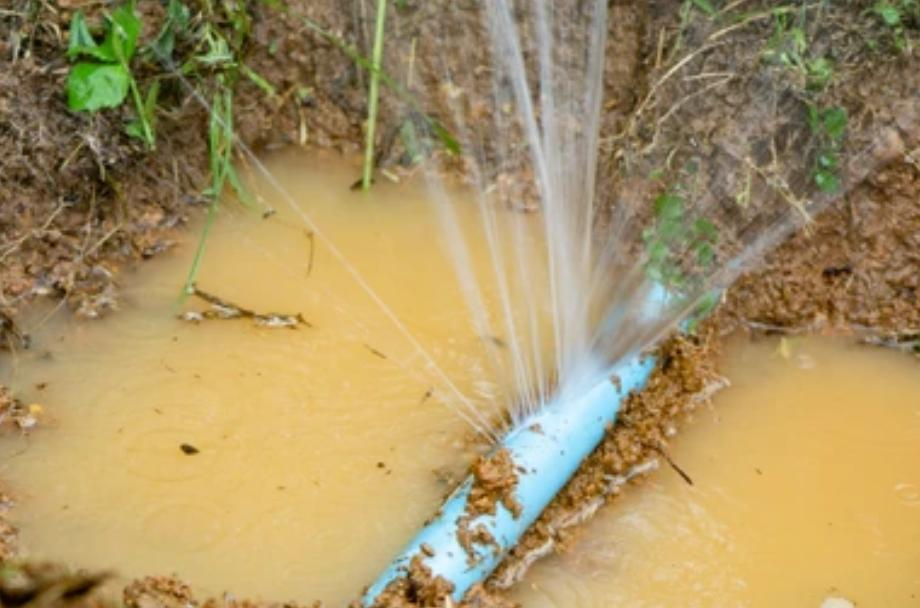pipe burst: (104, 6, 920, 454)
water accumulation: (0, 144, 920, 608)
